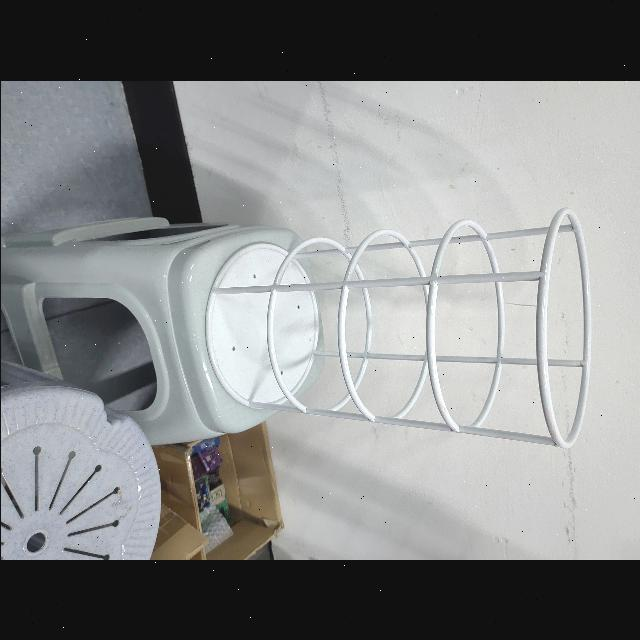S: (202, 202, 594, 453)
